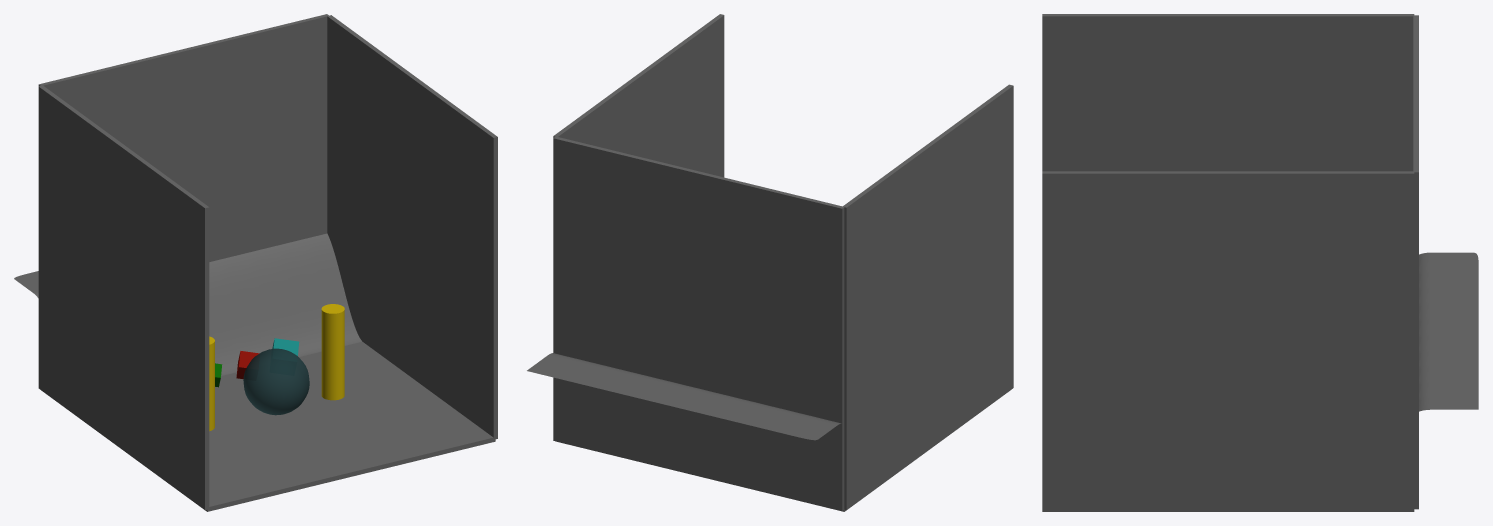
File: boxes_transparent_walls.dae
3 renders of one model, left to right at view 1: azimuth 30°, elevation 25°; view 2: azimuth 150°, elevation 25°; view 3: azimuth 270°, elevation 25°, orthographic. The views are drawn at different scales.
Visible parts, largest first — view 1: pCube8, pCube7, pCube9, pCube6, pPlane1, pSphere1, pCylinder2, pCylinder1; view 2: pCube9, pCube8, pCube7, pPlane1; view 3: pCube7, pCube8, pPlane1, pCube9, pCube6.
Boxes of the visible parts, x1,y1,x2,y2 form: pCube8: (38, 85, 209, 510); pCube7: (327, 15, 497, 439); pCube9: (38, 14, 328, 261); pCube6: (41, 341, 495, 511); pPlane1: (14, 233, 361, 375); pSphere1: (243, 348, 309, 415); pCylinder2: (321, 304, 344, 400); pCylinder1: (209, 336, 214, 431); pCube9: (553, 136, 844, 511); pCube8: (843, 84, 1013, 509); pCube7: (553, 14, 724, 177); pPlane1: (527, 353, 841, 440); pCube7: (1042, 171, 1414, 510); pCube8: (1042, 14, 1414, 171); pPlane1: (1419, 252, 1478, 411); pCube9: (1413, 15, 1418, 509); pCube6: (1042, 510, 1414, 511).
Size of the model in its own units: 2030 by 2015 by 2347.
